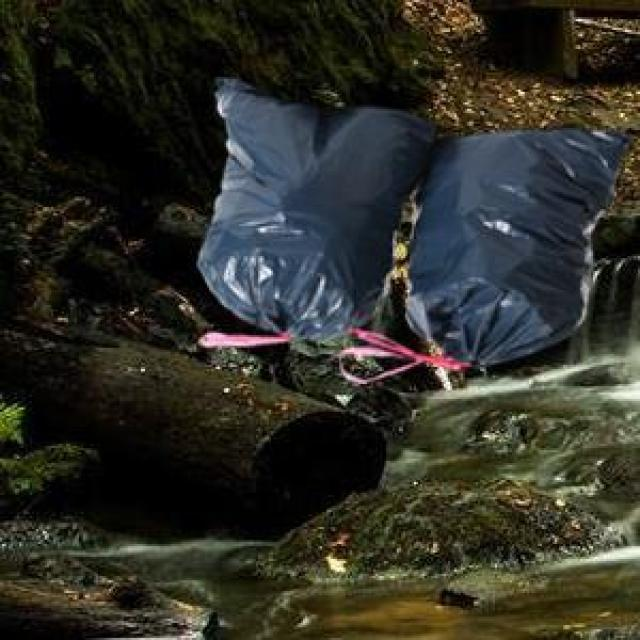Trashbag: (176, 54, 397, 358), (411, 80, 590, 383)
